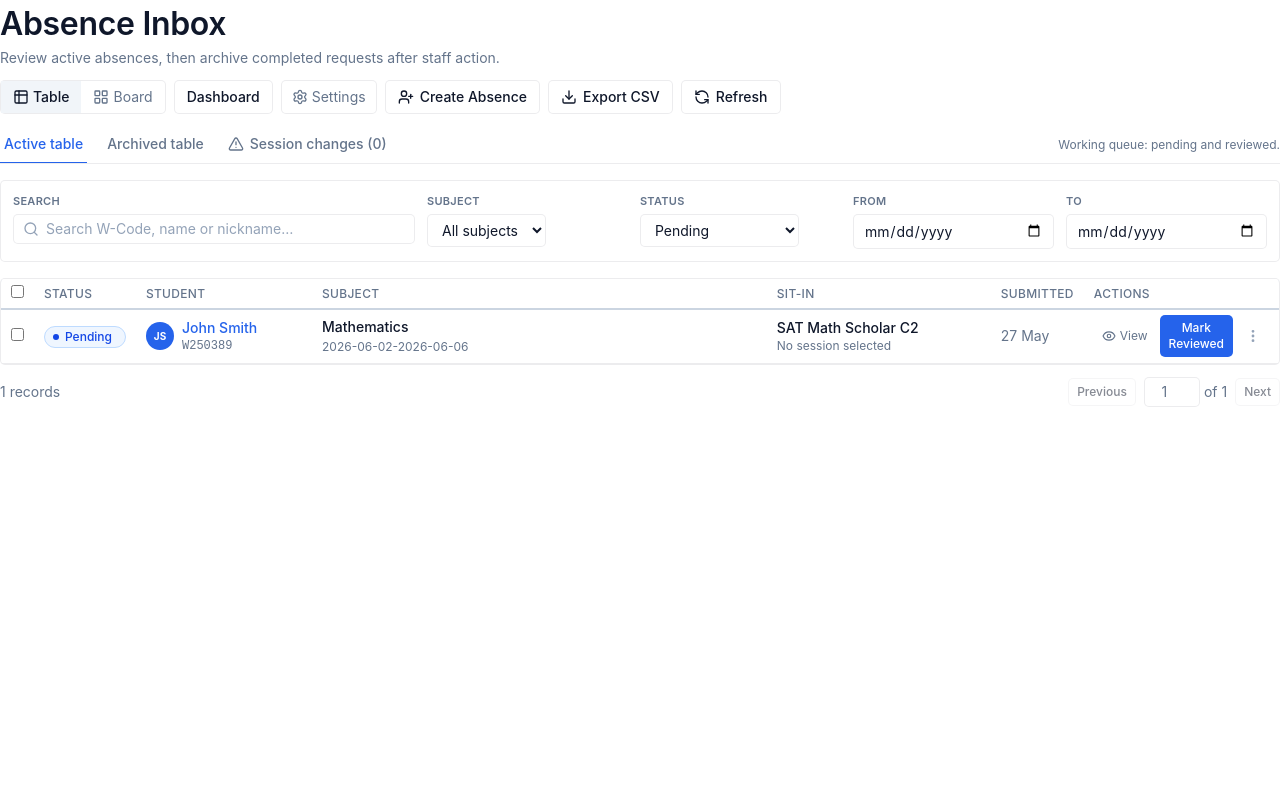
Test: Absence inbox › opens confirmation modal when delete button is clicked
Expected: the link "John Smith" is shown, x1=182 y1=318 x2=257 y2=336
Click the button named "more actions" at (1253, 336), box x1=1237 y1=320 x2=1269 y2=352
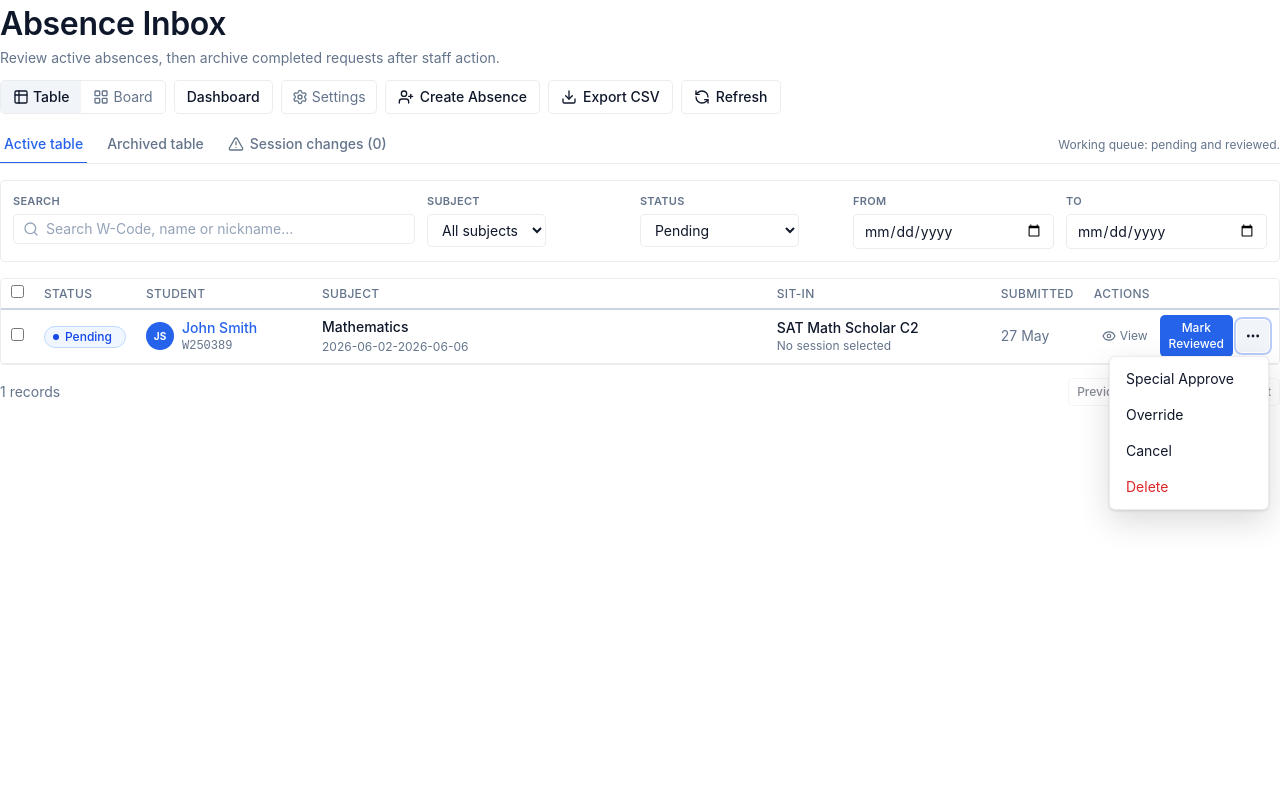
Click the menu item "Delete" at (1189, 486), box x1=1114 y1=468 x2=1264 y2=504
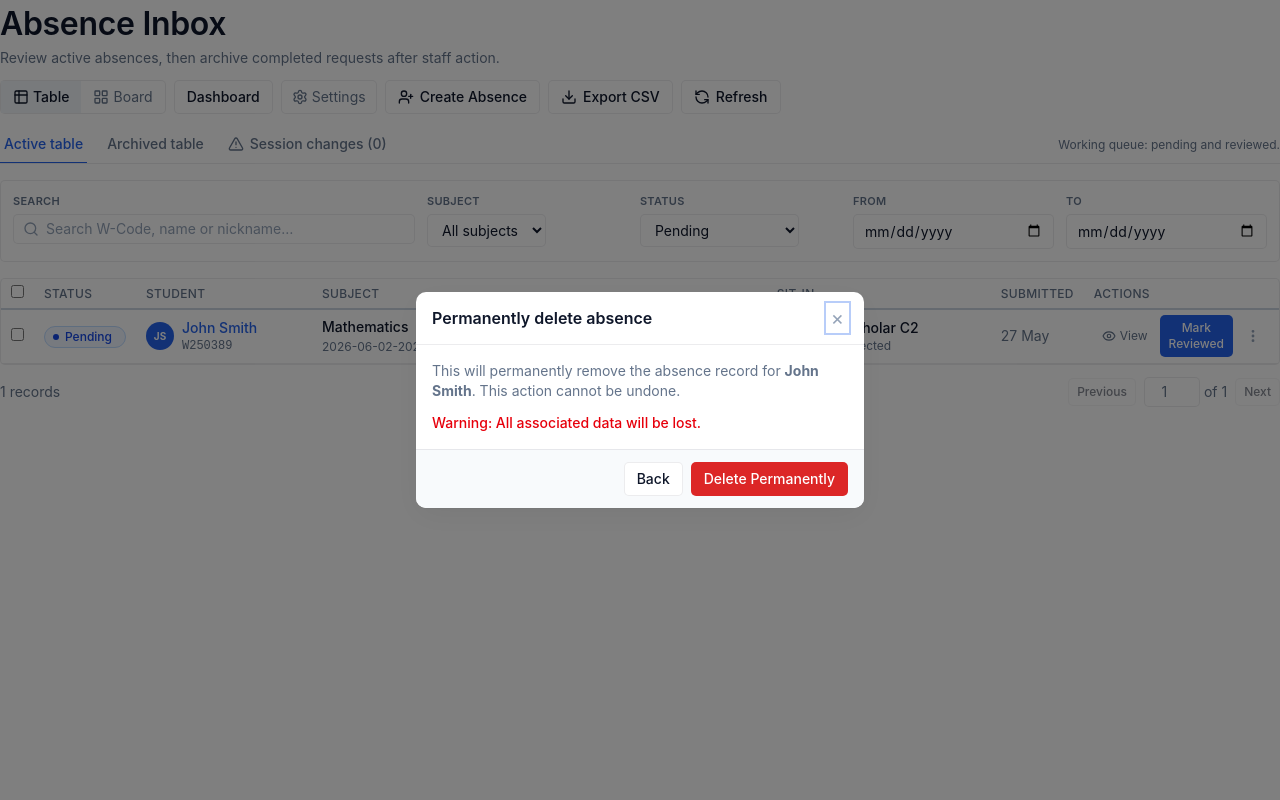
Expected: the heading "Permanently delete absence" is shown, x1=432 y1=306 x2=652 y2=330
Expected: the text "permanently remove the absence record" is shown, x1=432 y1=362 x2=785 y2=379
Expected: the text "John Smith" is shown, x1=432 y1=362 x2=819 y2=399
